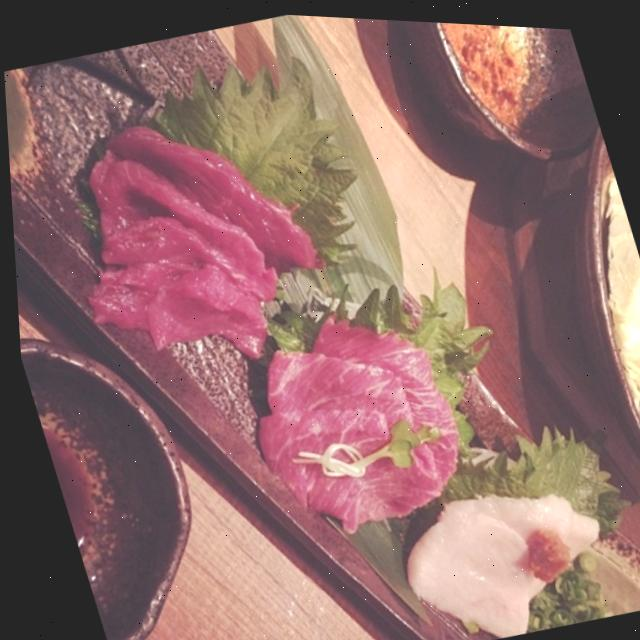刺身生食: (18, 43, 492, 588)
